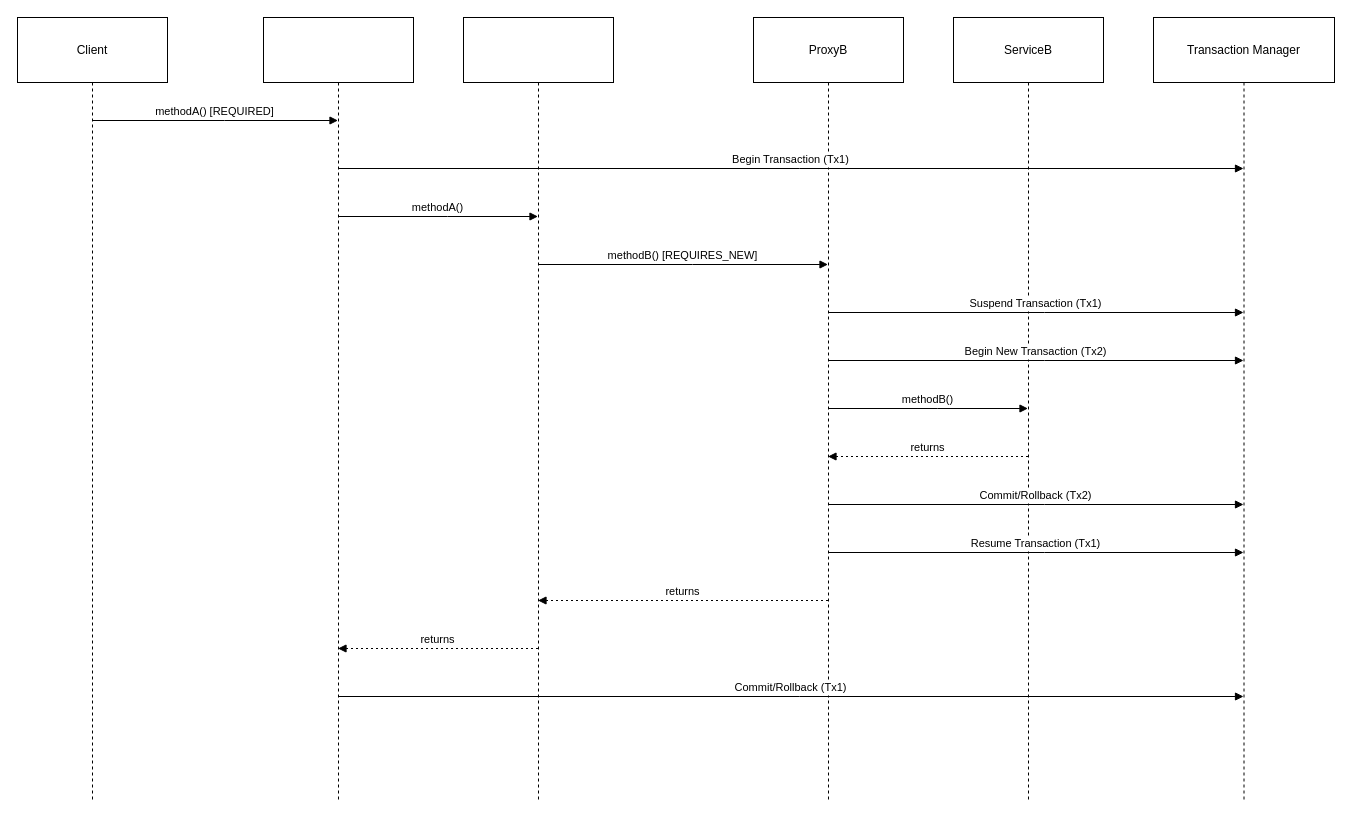
Image size: 1352x819. Some labels were removed from this diagram. The shapes that lost their labels are listed below. From the top down, each one's box as (x1, y1, x2, y2) in pixels, then its label:
(262, 16, 414, 802): ProxyA
(462, 16, 614, 802): ServiceA
